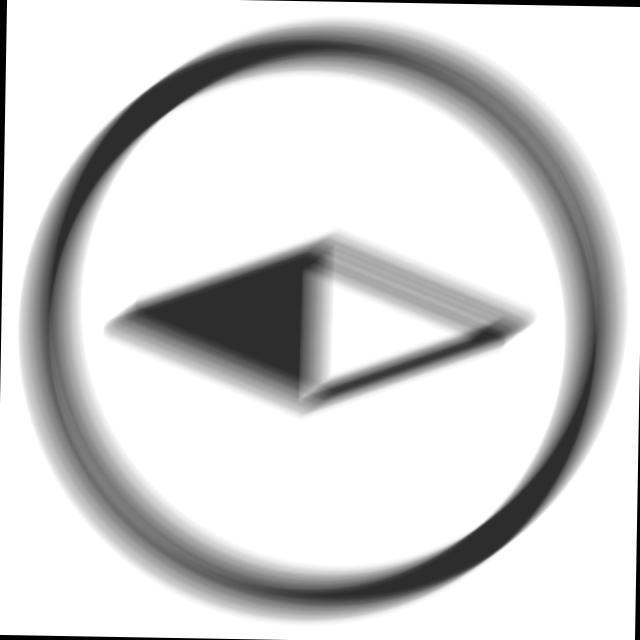compass: (9, 4, 638, 631)
